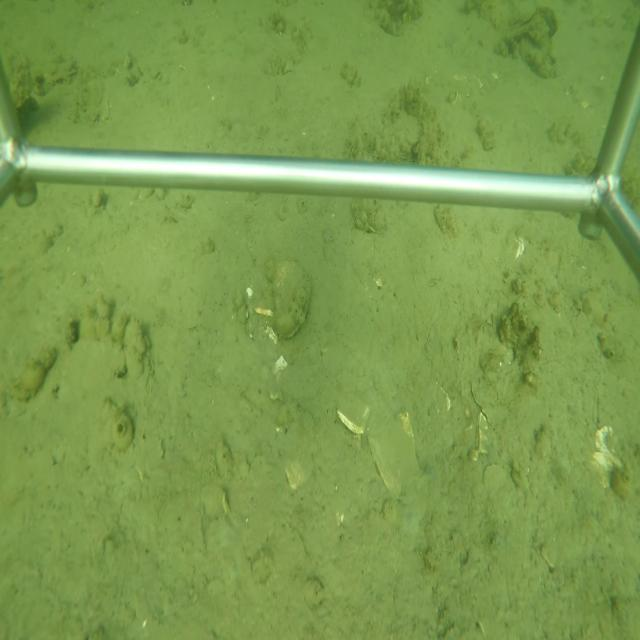Oyster-Closed: (272, 258, 312, 342), (505, 5, 539, 36)
